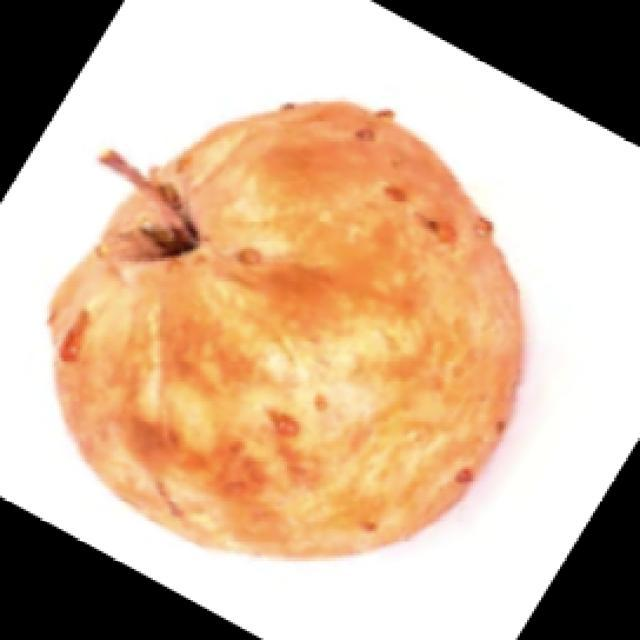Rotten: (42, 93, 528, 565)
